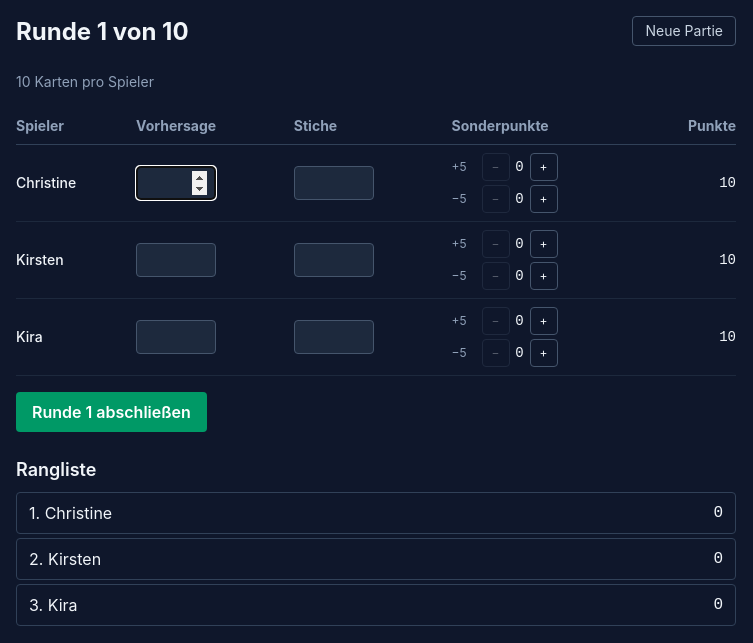
RoundEntryScreen › special card points stepper › starts at 0 and increases/decreases the live score by 5 per step
Click the button named "+5 Christine erhöhen". click: [544, 167]
box: [530,153,558,181]
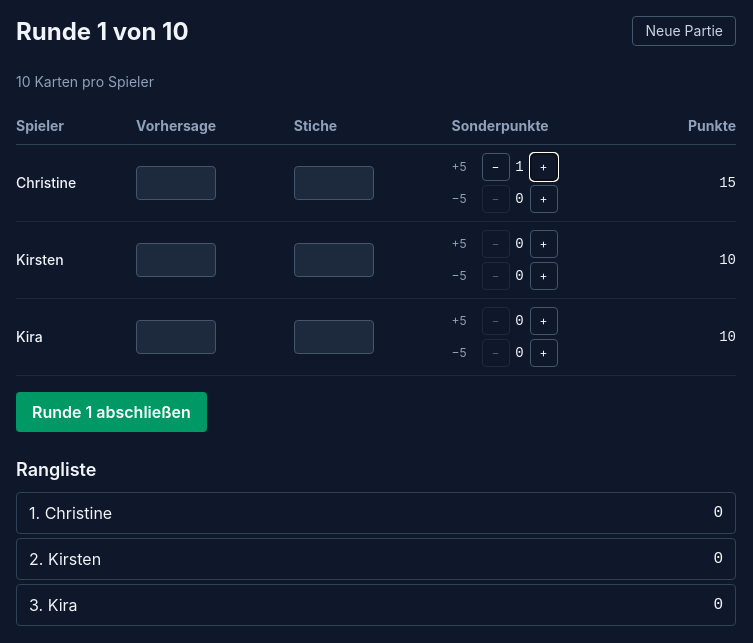
Click the button named "+5 Christine erhöhen". click: [544, 167]
box: [530,153,558,181]
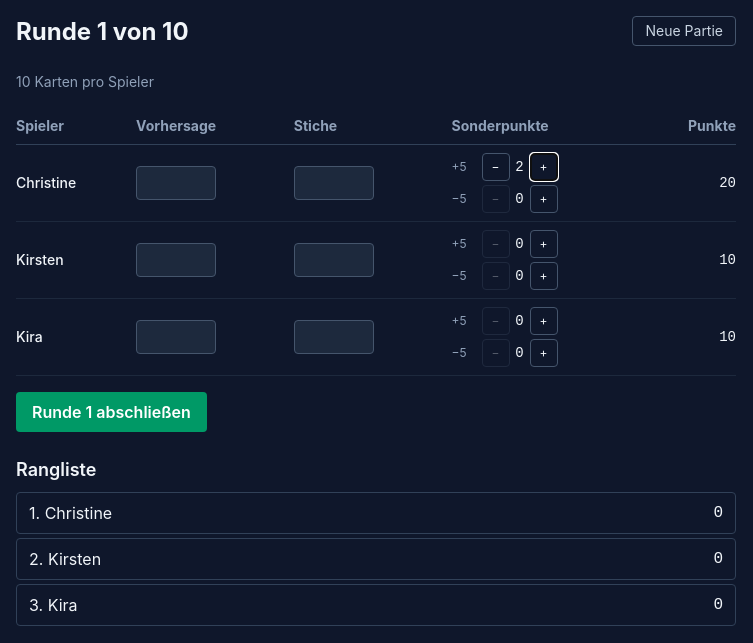
Expected: the text named "+5 Karten Christine" reads "2", [515,159,524,175]
Click the button named "+5 Christine verringern". click: [496, 167]
box: [482,153,510,181]
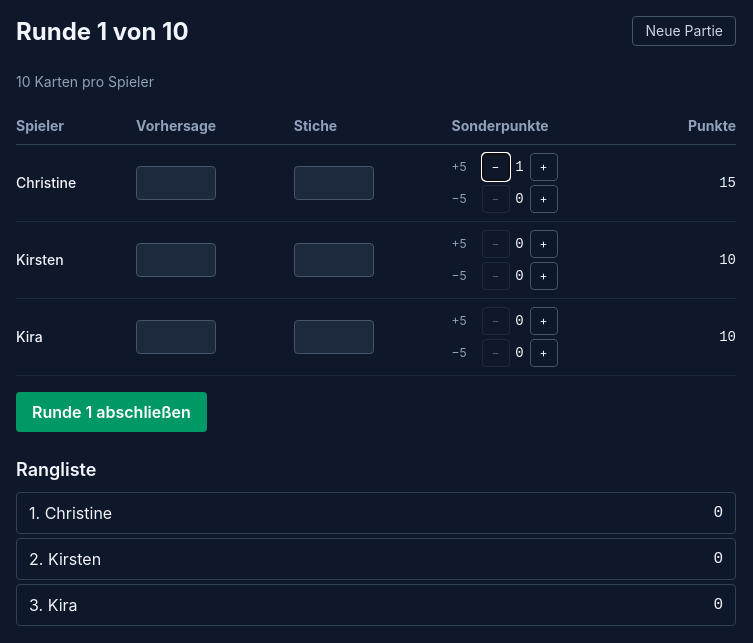
Expected: the text named "+5 Karten Christine" reads "1", [515,159,524,175]
